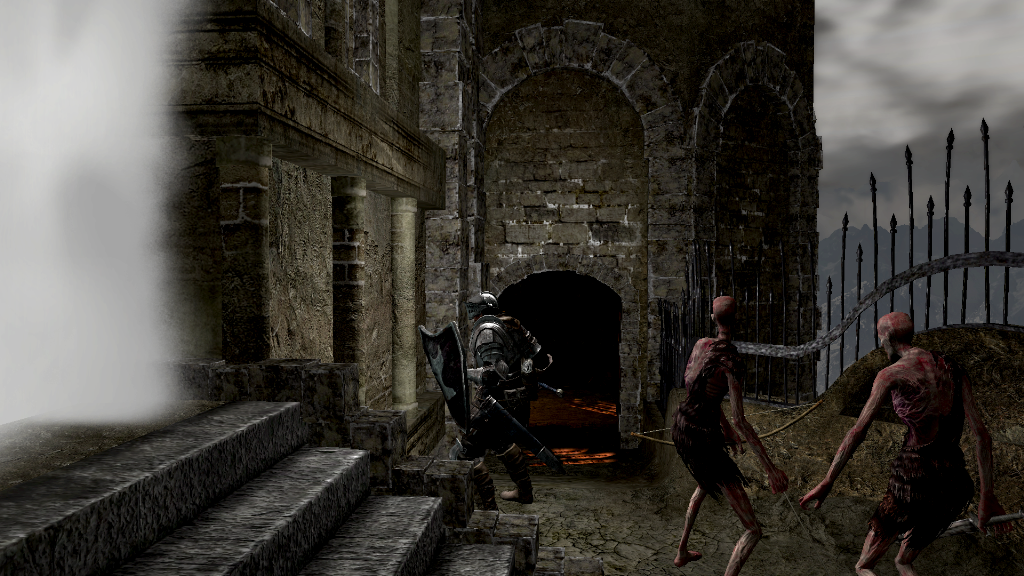hollow: (799, 311, 995, 576), (670, 294, 789, 576)
player: (421, 291, 566, 507)
